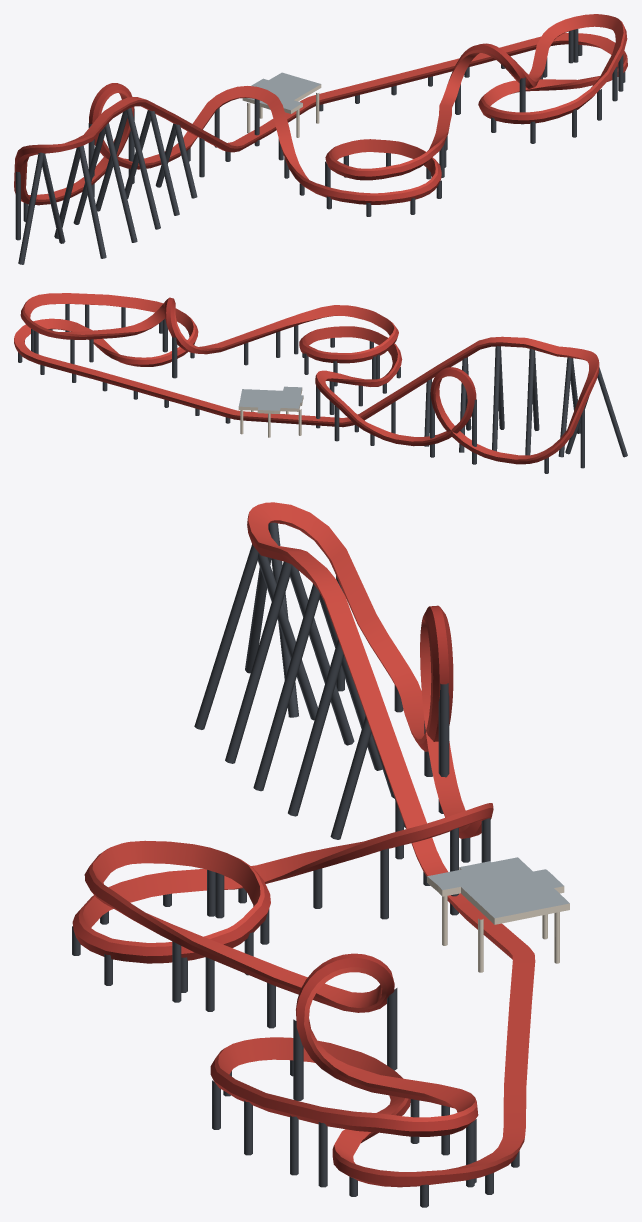
File: carowinds-vortex.glb
The picture shows the model from 3 angles, top to bottom: view 1: azimuth 30°, elevation 25°; view 2: azimuth 150°, elevation 25°; view 3: azimuth 270°, elevation 25°; orthographic projection. The views are drawn at different scales.
Parts seen in each view (by area): view 1: Vortex; view 2: Vortex; view 3: Vortex.
Boxes of the visible parts, <box> form: Vortex: <box>14,14,627,264</box>; Vortex: <box>14,293,627,473</box>; Vortex: <box>72,502,569,1207</box>.
Size of the model in its own units: 162 by 28.71 by 62.02.
